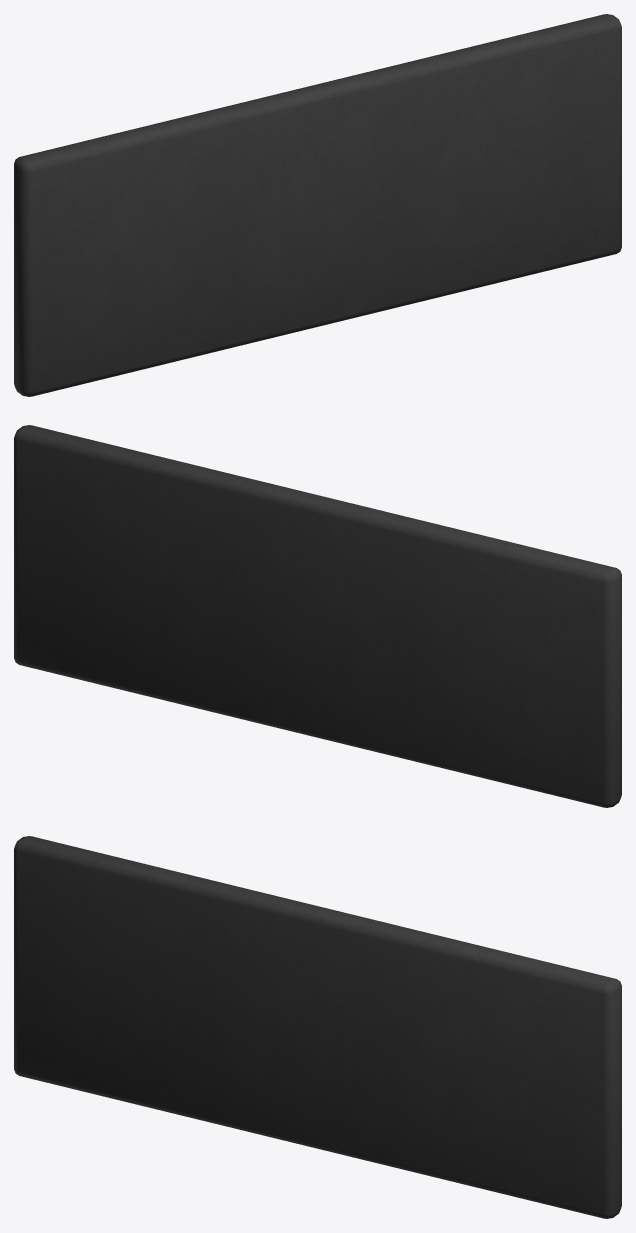
File: partition.fabric-divider-dark.glb
3 views of the same model, one above another, from view 1: azimuth 30°, elevation 25°; view 2: azimuth 150°, elevation 25°; view 3: azimuth 330°, elevation 25° (orthographic).
Visible parts, largest first — view 1: partition.fabric-divider-dark.001; view 2: partition.fabric-divider-dark.001; view 3: partition.fabric-divider-dark.001.
Boxes of the visible parts, x1,y1,x2,y2 form: partition.fabric-divider-dark.001: [14, 14, 621, 396]; partition.fabric-divider-dark.001: [14, 425, 621, 807]; partition.fabric-divider-dark.001: [14, 836, 621, 1218].
Size of the model in its own units: 1.2 by 0.45 by 0.05.
1 material, 1 textured.
